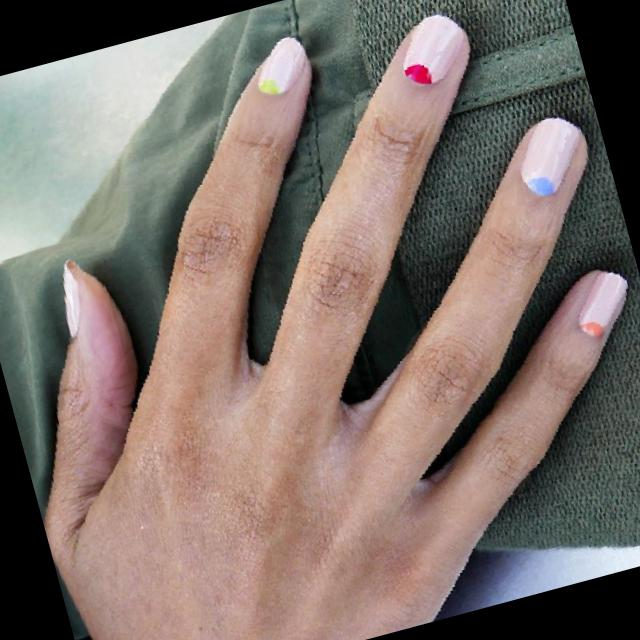Nail: (520, 116, 581, 194), (403, 13, 465, 83), (577, 272, 628, 336), (256, 35, 305, 93), (62, 261, 80, 336)
